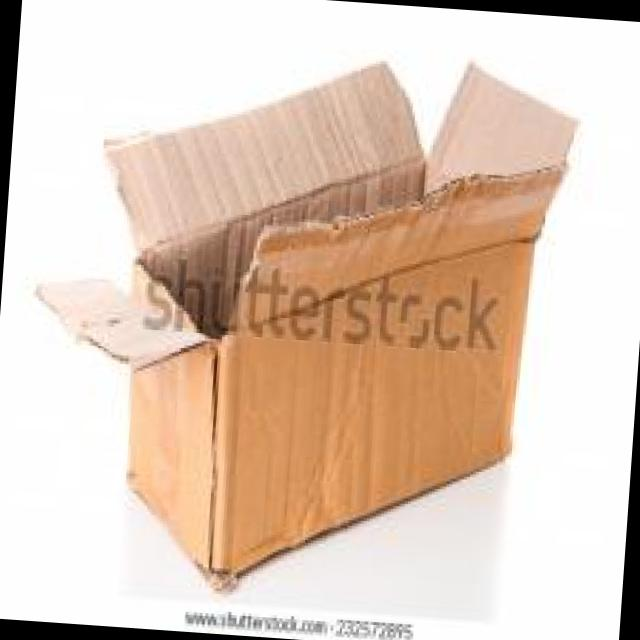tear: (32, 60, 576, 363)
